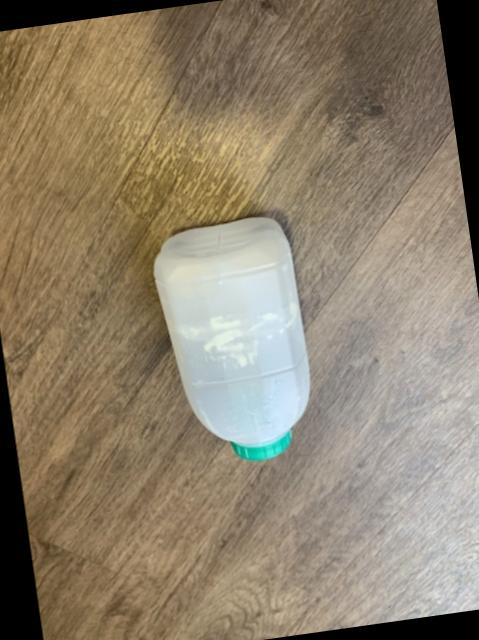plastic: (152, 219, 308, 461)
